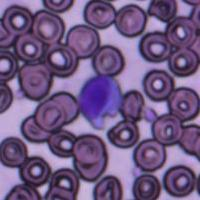L: (78, 74, 122, 120)
